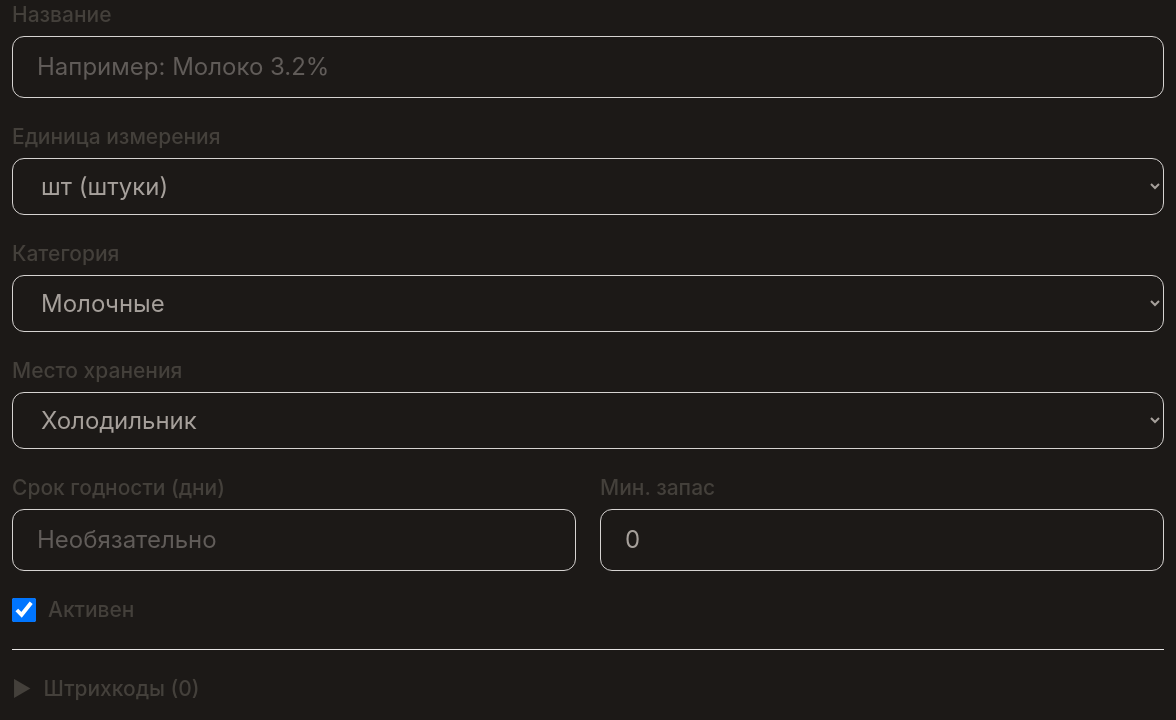
Test case: ProductForm › toggles barcode section visibility
Click to expand
Click the button "▶ Штрихкоды (0)" at (106, 689), box [12, 674, 200, 704]
(page scrolled)
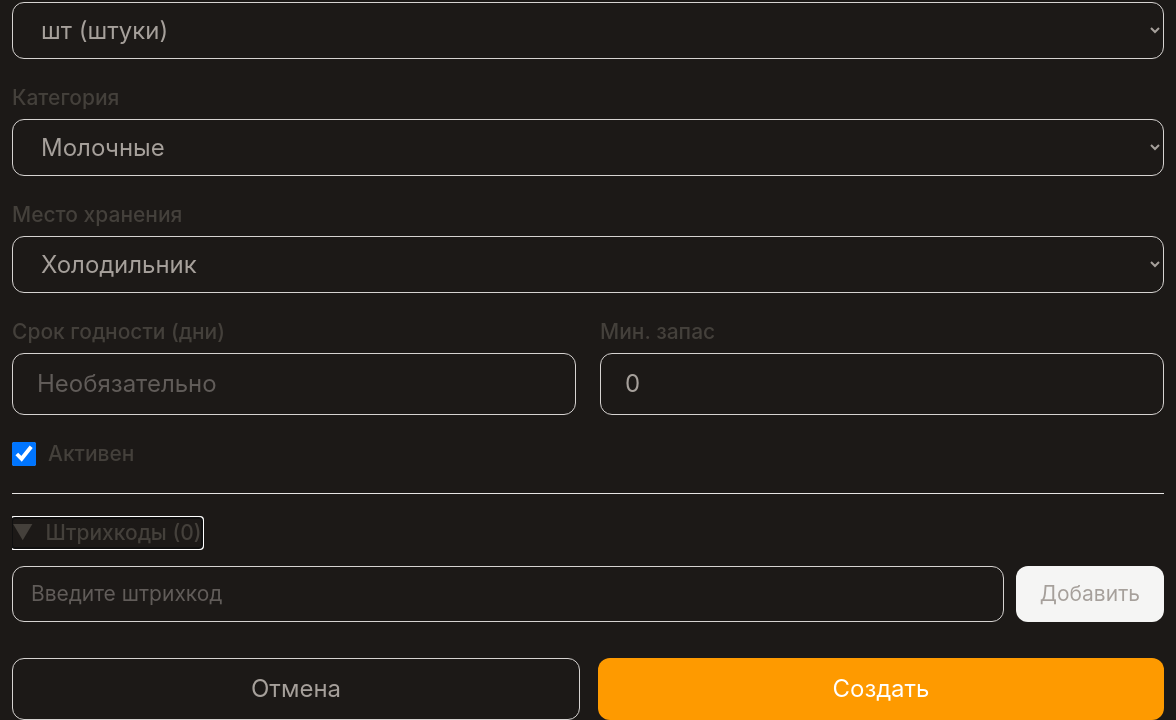
Check: the field with placeholder "Введите штрихкод" is shown, box [12, 566, 1004, 622]
